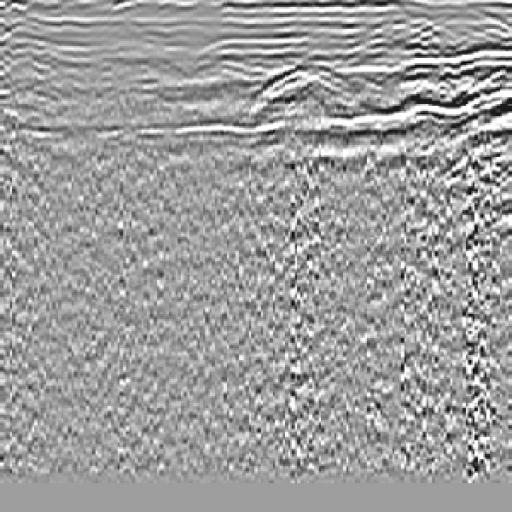metalic: (240, 50, 382, 117)
